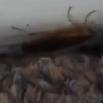cockroach: (21, 24, 96, 52)
